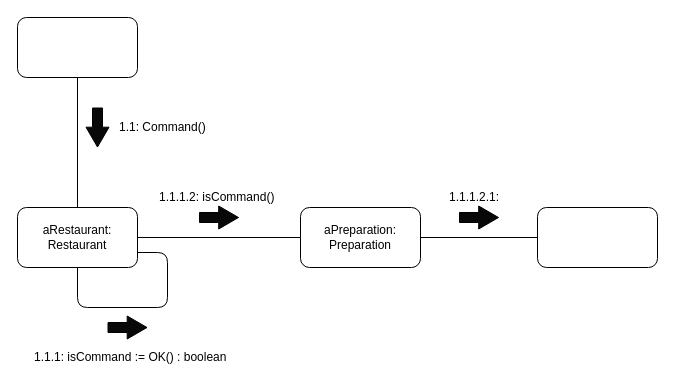
Some shapes in this 675 by 385 pixel diagram are drawn without their labels. Each missing label, with the box of its shape:
aNotice: Confirmation: (536, 206, 658, 268)
window: UI: (16, 16, 138, 78)
